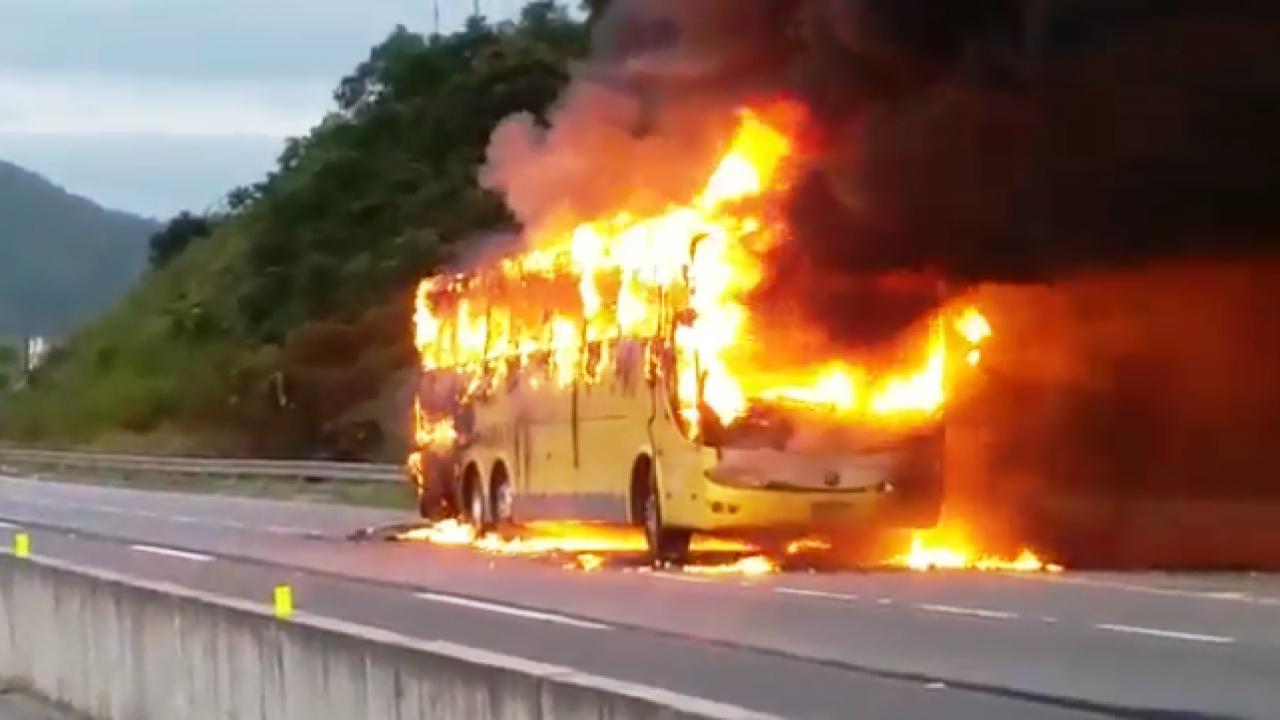Fire: (414, 112, 790, 432), (789, 311, 1000, 427), (881, 524, 1087, 577), (394, 520, 641, 552), (410, 397, 463, 484), (678, 555, 780, 579), (686, 530, 758, 552), (788, 536, 838, 554)
